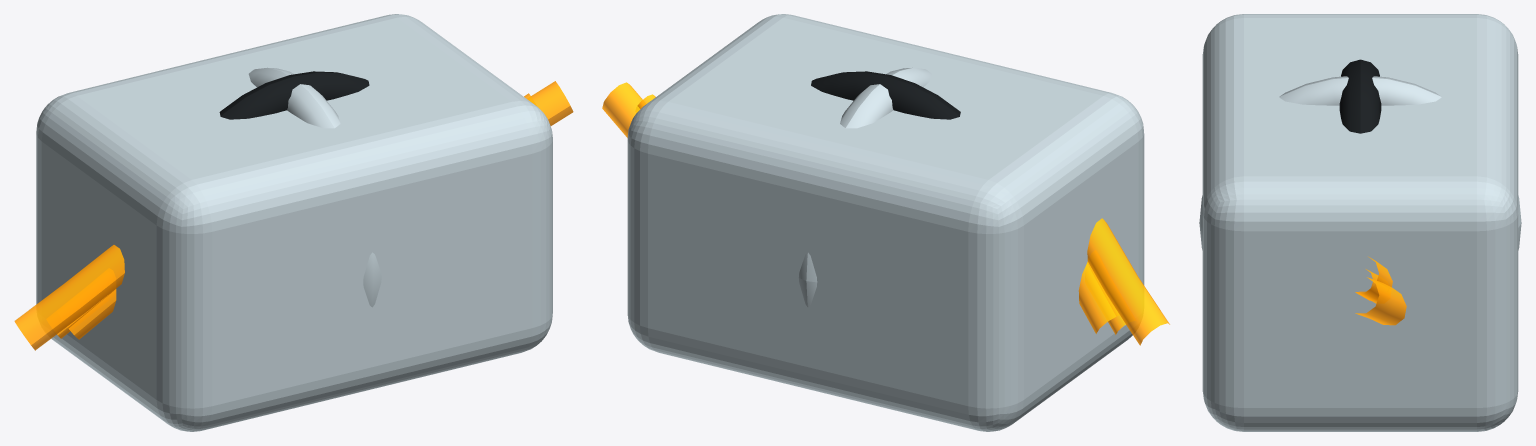
The model's file is remaining_systems_20.glb.
3 renders of one model, left to right at view 1: azimuth 30°, elevation 25°; view 2: azimuth 150°, elevation 25°; view 3: azimuth 270°, elevation 25°, orthographic.
Parts seen in each view (by area): view 1: asset_mesh__remaining_systems_1682__reference_body, asset_mesh__remaining_systems_1727__fluid_path, asset_mesh__remaining_systems_1726__service_element, asset_mesh__remaining_systems_1735__functional_ring, asset_mesh__remaining_systems_1733__fluid_path; view 2: asset_mesh__remaining_systems_1682__reference_body, asset_mesh__remaining_systems_1727__fluid_path, asset_mesh__remaining_systems_1726__service_element, asset_mesh__remaining_systems_1735__functional_ring, asset_mesh__remaining_systems_1733__fluid_path; view 3: asset_mesh__remaining_systems_1682__reference_body, asset_mesh__remaining_systems_1735__functional_ring, asset_mesh__remaining_systems_1726__service_element, asset_mesh__remaining_systems_1727__fluid_path.
Part boxes in pixels (left/top/right/bottom): asset_mesh__remaining_systems_1682__reference_body: left=36, top=14, right=552, bottom=431; asset_mesh__remaining_systems_1727__fluid_path: left=14, top=81, right=573, bottom=350; asset_mesh__remaining_systems_1726__service_element: left=219, top=71, right=369, bottom=119; asset_mesh__remaining_systems_1735__functional_ring: left=248, top=67, right=381, bottom=307; asset_mesh__remaining_systems_1733__fluid_path: left=68, top=289, right=116, bottom=339; asset_mesh__remaining_systems_1682__reference_body: left=627, top=14, right=1144, bottom=431; asset_mesh__remaining_systems_1727__fluid_path: left=602, top=82, right=1169, bottom=345; asset_mesh__remaining_systems_1726__service_element: left=811, top=71, right=960, bottom=119; asset_mesh__remaining_systems_1735__functional_ring: left=798, top=67, right=931, bottom=307; asset_mesh__remaining_systems_1733__fluid_path: left=1078, top=262, right=1116, bottom=333; asset_mesh__remaining_systems_1682__reference_body: left=1202, top=14, right=1518, bottom=431; asset_mesh__remaining_systems_1735__functional_ring: left=1199, top=76, right=1521, bottom=250; asset_mesh__remaining_systems_1726__service_element: left=1339, top=59, right=1381, bottom=133; asset_mesh__remaining_systems_1727__fluid_path: left=1355, top=277, right=1406, bottom=325.
Bounding box in the file's own units: 1.73 × 0.8732 × 0.8573.
